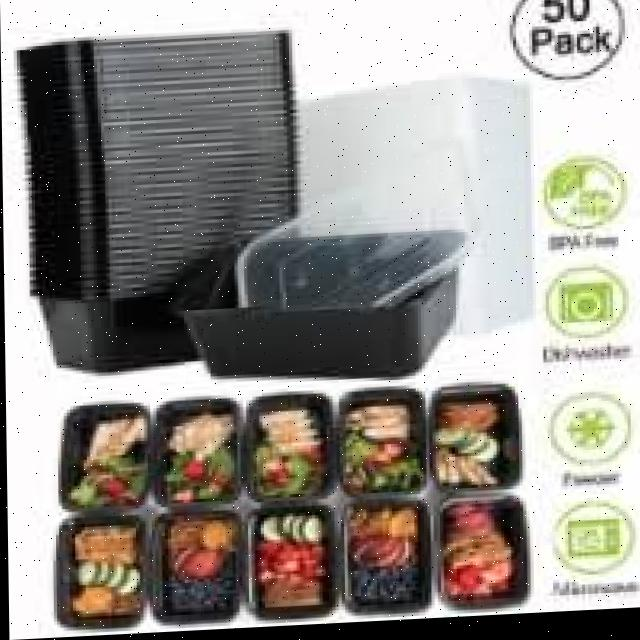disposable: (189, 217, 473, 396)
